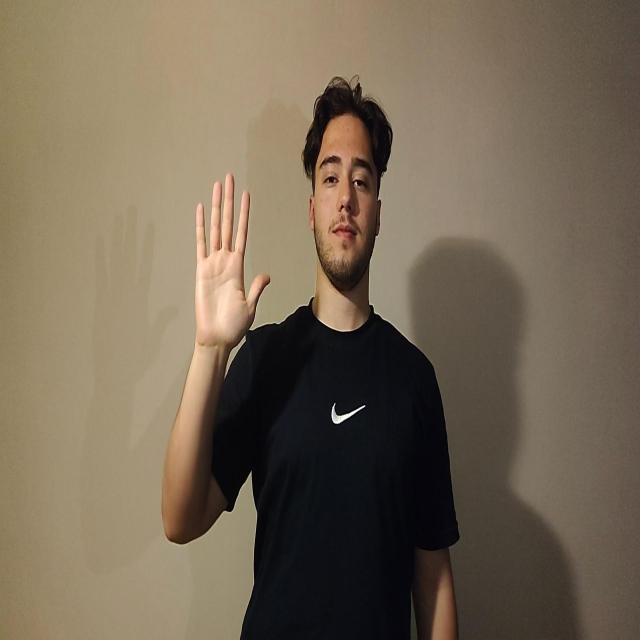hello: (194, 171, 270, 350)
